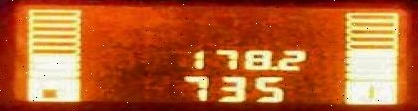-: (269, 65, 279, 70)
1: (192, 49, 205, 69)
2: (275, 49, 305, 70)
3: (215, 75, 245, 100)
5: (253, 75, 282, 101)
7: (180, 74, 208, 101), (212, 49, 237, 70)
8: (242, 50, 270, 69)
